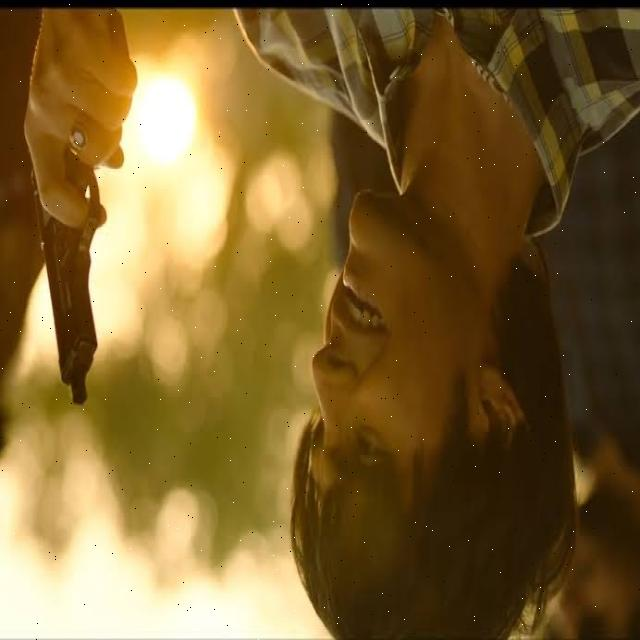gun: (17, 45, 150, 421)
